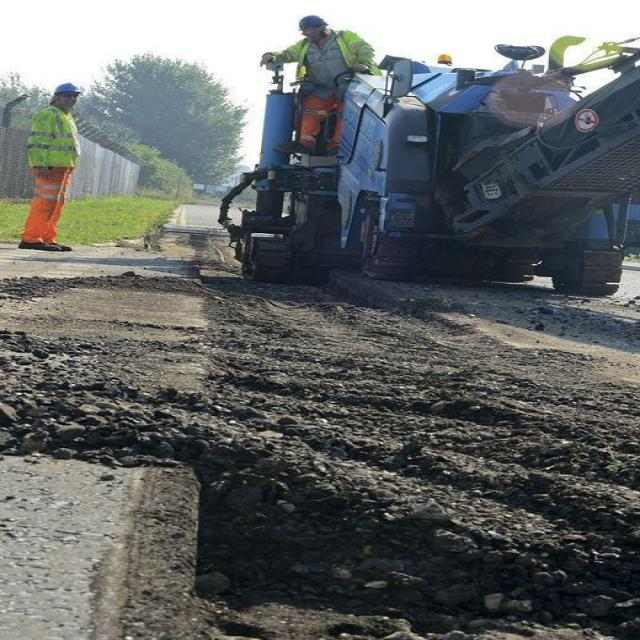vest: (290, 23, 367, 89), (25, 106, 81, 172)
